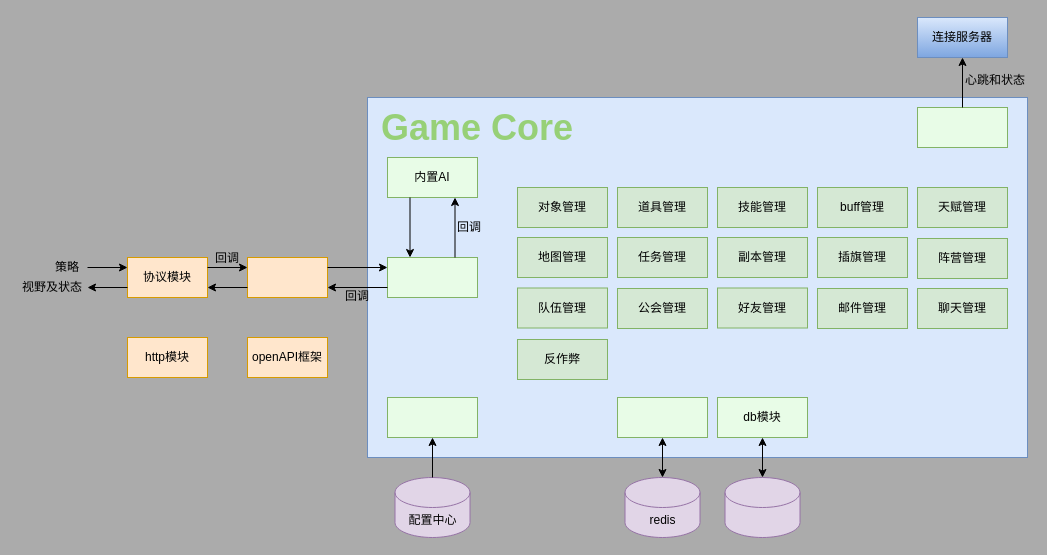
This 1047x555 diagram has some shape labels left out. Each missing label, with the box of its shape:
API框架: (246, 256, 328, 298)
cache模块: (616, 396, 708, 438)
mysql: (724, 476, 800, 538)
命令处理: (386, 256, 478, 298)
连接模块: (916, 106, 1008, 148)
配置模块: (386, 396, 478, 438)
